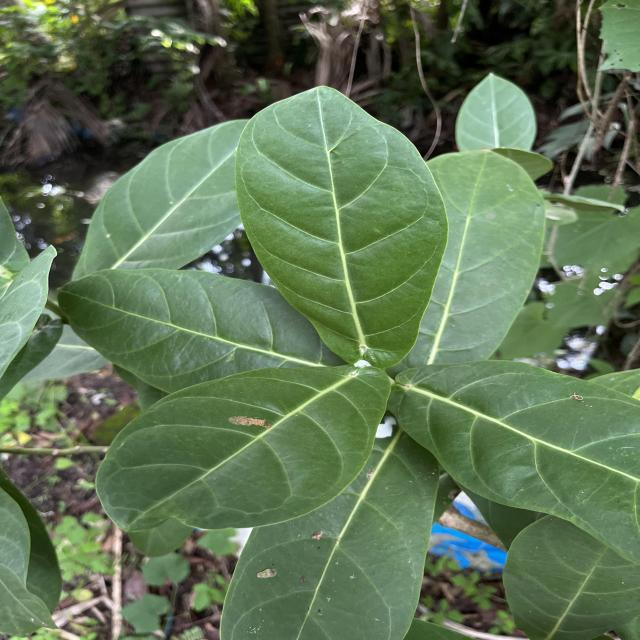Calotropis gigantea: (233, 84, 453, 373), (93, 358, 397, 534), (393, 358, 640, 566), (226, 443, 434, 640), (53, 264, 320, 394), (413, 146, 549, 377), (456, 70, 538, 152)
